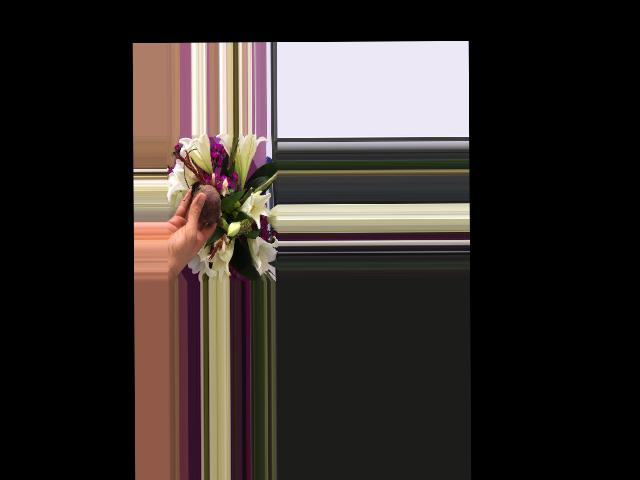beet: (190, 180, 228, 233)
